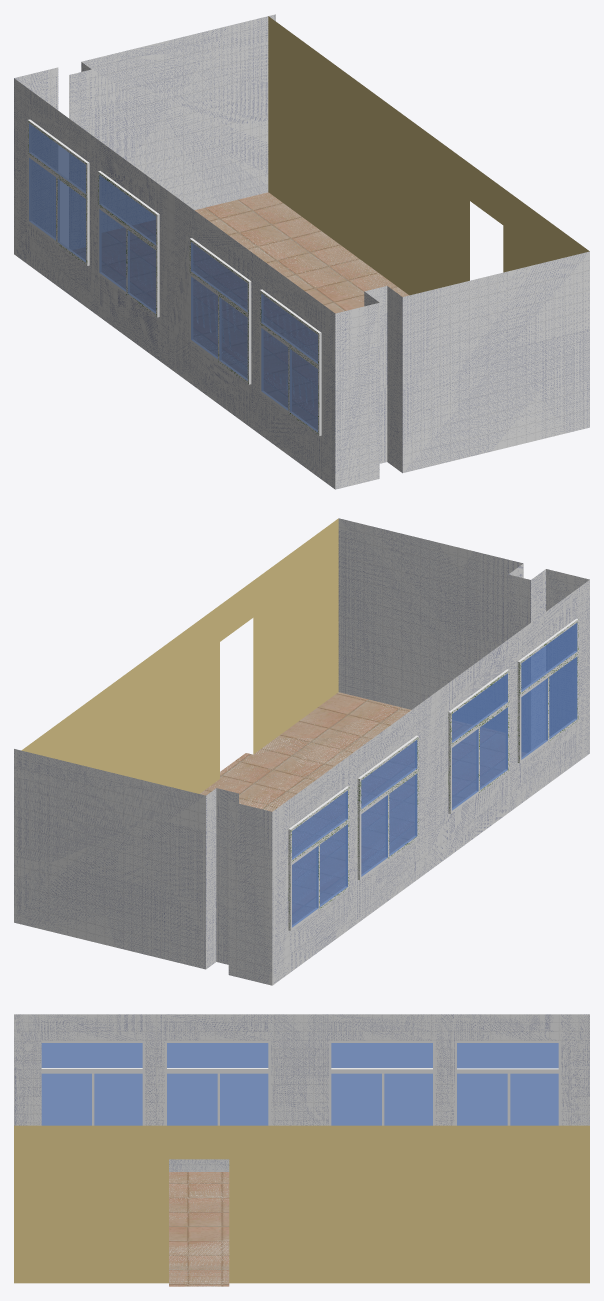
Rendered from AUL030.obj.
3 views of the same model, one above another, from view 1: azimuth 30°, elevation 25°; view 2: azimuth 150°, elevation 25°; view 3: azimuth 270°, elevation 25° (orthographic). The views are drawn at different scales.
Parts seen in each view (by area): view 1: Mesh25 AUL030 Model, Mesh7 ventana1_2 AUL030 Model, Mesh13 ventana1_3 AUL030 Model, Mesh1 ventana1_1 AUL030 Model, Mesh19 ventana1_4 AUL030 Model; view 2: Mesh25 AUL030 Model, Mesh1 ventana1_1 AUL030 Model, Mesh19 ventana1_4 AUL030 Model, Mesh7 ventana1_2 AUL030 Model, Mesh13 ventana1_3 AUL030 Model; view 3: Mesh25 AUL030 Model, Mesh13 ventana1_3 AUL030 Model, Mesh7 ventana1_2 AUL030 Model, Mesh19 ventana1_4 AUL030 Model, Mesh1 ventana1_1 AUL030 Model.
Part boxes in pixels (bbox=[...]): Mesh25 AUL030 Model: bbox=[14, 14, 589, 489]; Mesh7 ventana1_2 AUL030 Model: bbox=[27, 119, 89, 265]; Mesh13 ventana1_3 AUL030 Model: bbox=[189, 238, 251, 384]; Mesh1 ventana1_1 AUL030 Model: bbox=[260, 289, 321, 435]; Mesh19 ventana1_4 AUL030 Model: bbox=[98, 171, 159, 317]; Mesh25 AUL030 Model: bbox=[14, 518, 589, 985]; Mesh1 ventana1_1 AUL030 Model: bbox=[517, 618, 578, 763]; Mesh19 ventana1_4 AUL030 Model: bbox=[357, 735, 418, 880]; Mesh7 ventana1_2 AUL030 Model: bbox=[288, 786, 349, 930]; Mesh13 ventana1_3 AUL030 Model: bbox=[448, 669, 509, 813]; Mesh25 AUL030 Model: bbox=[14, 1014, 589, 1286]; Mesh13 ventana1_3 AUL030 Model: bbox=[164, 1040, 270, 1125]; Mesh7 ventana1_2 AUL030 Model: bbox=[454, 1040, 560, 1125]; Mesh19 ventana1_4 AUL030 Model: bbox=[329, 1040, 435, 1125]; Mesh1 ventana1_1 AUL030 Model: bbox=[41, 1040, 144, 1125].
Size of the model in its own units: 5.65 by 3.6 by 11.91.
Materials: 8 (3 with a texture image).
